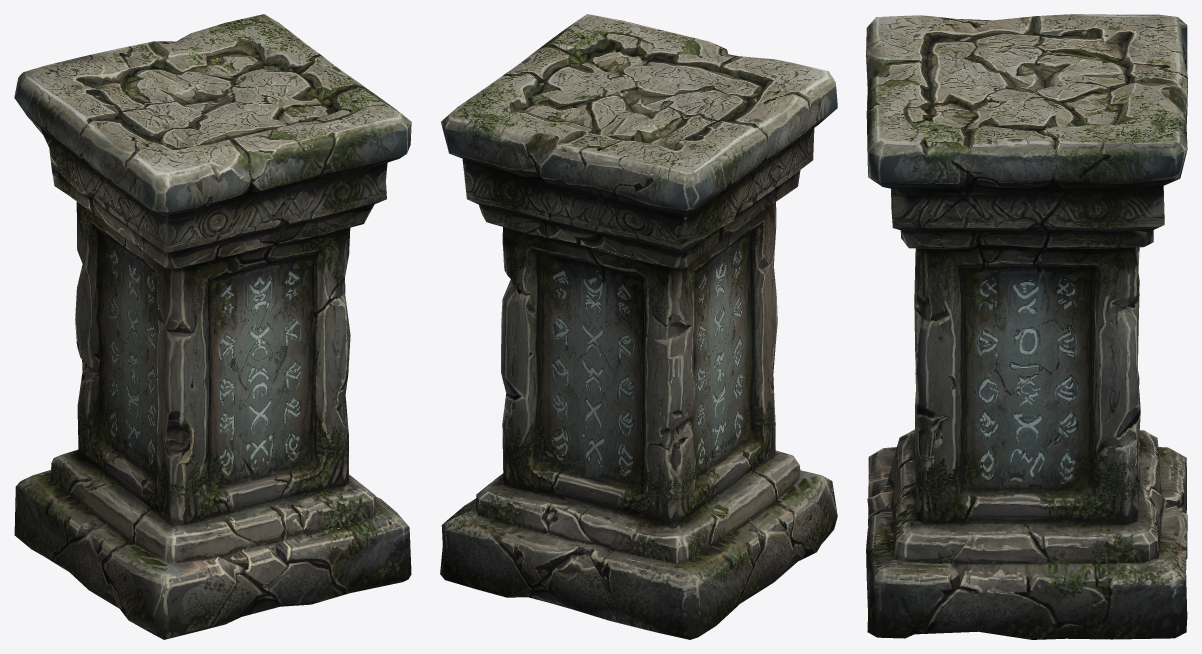
Rendered from Tile_Pillar.fbx.
The picture shows the model from 3 angles, left to right: view 1: azimuth 30°, elevation 25°; view 2: azimuth 150°, elevation 25°; view 3: azimuth 270°, elevation 25°; orthographic projection. The views are drawn at different scales.
Visible parts, largest first — view 1: texture_mapping; view 2: texture_mapping; view 3: texture_mapping.
Part boxes in pixels (x1,y1,x2,y2): texture_mapping: (14, 14, 411, 639); texture_mapping: (440, 14, 837, 639); texture_mapping: (866, 14, 1187, 639).
Size of the model in its own units: 0.5876 by 0.5858 by 1.
Materials: 1 (1 with a texture image).
